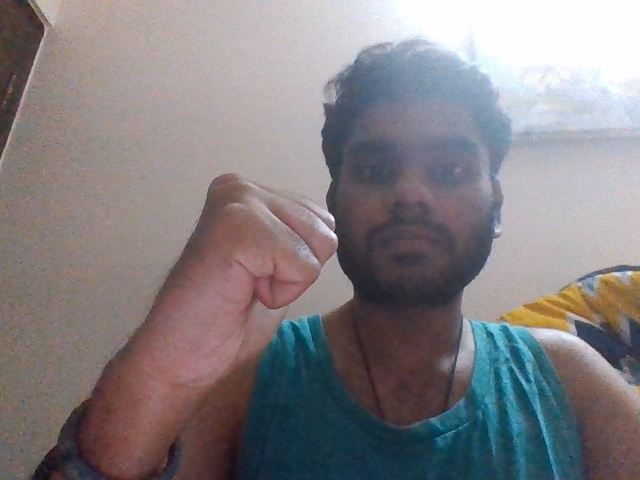yes: (120, 168, 345, 413)
